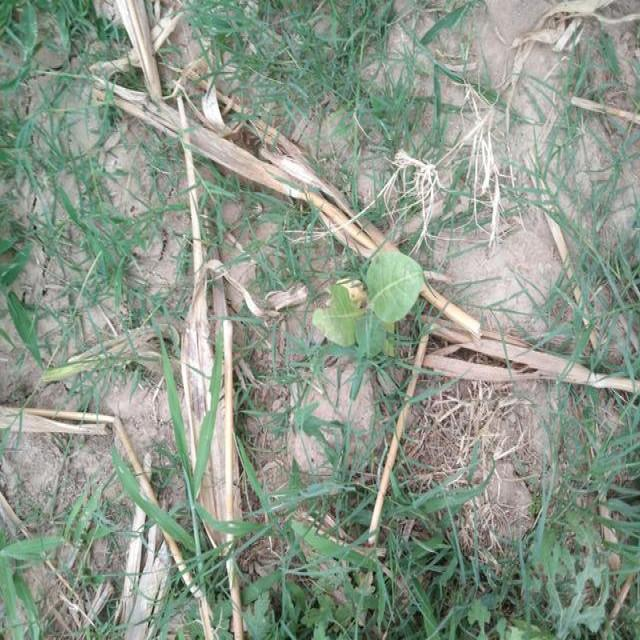crop: (304, 241, 432, 355)
